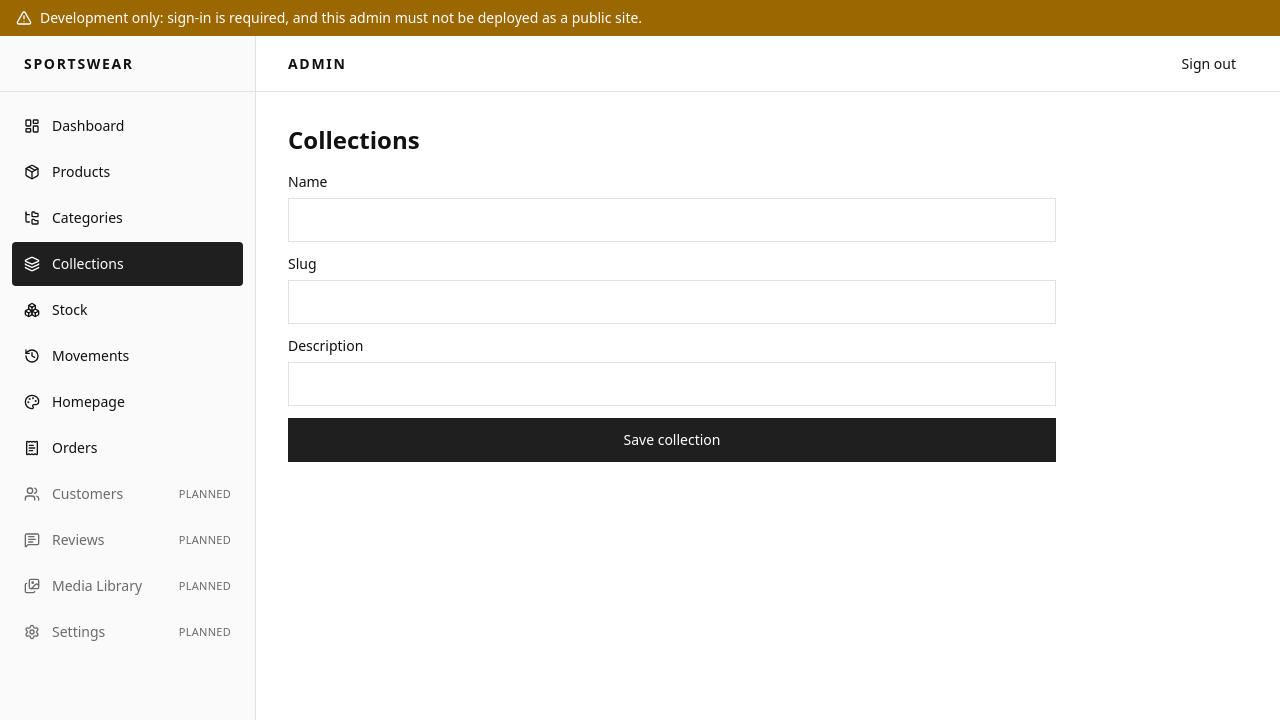
it: catalogue administration › shows a collection conflict from the API
Type "Drop" into the field labelled "Name" at x=672, y=220, box [288, 198, 1056, 242]
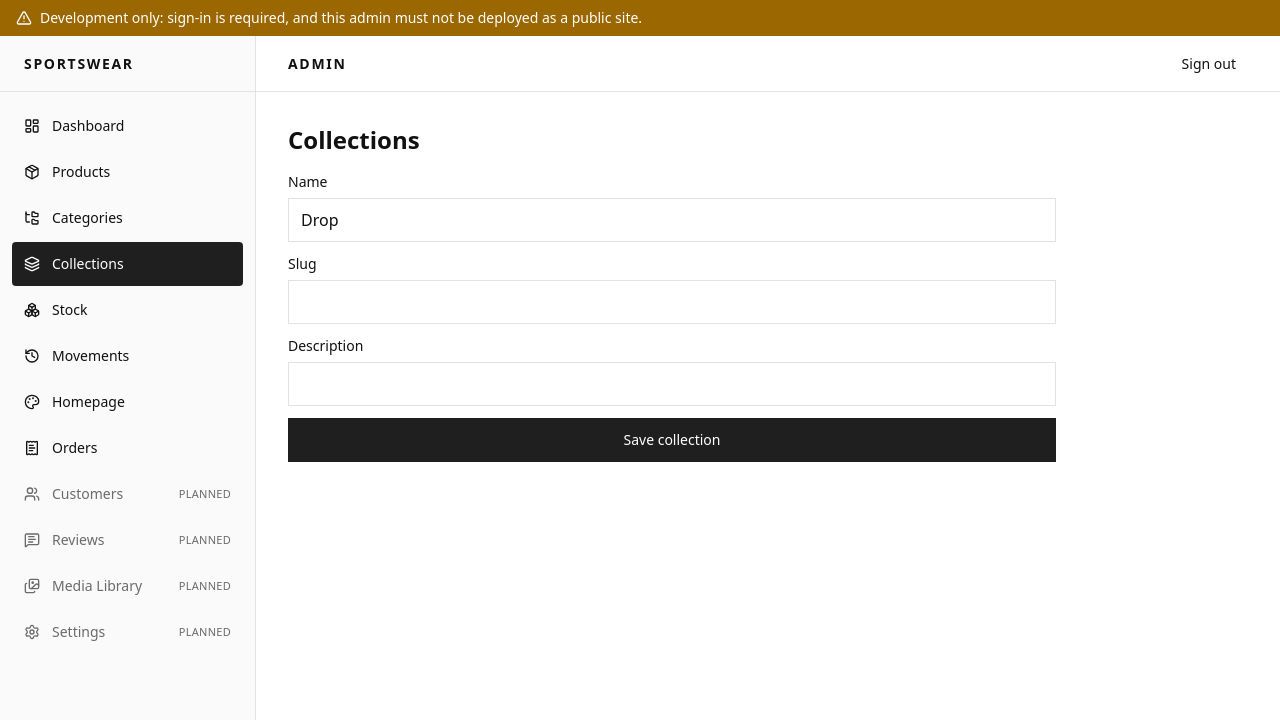
Click the button "Save collection" at x=672, y=440, box [288, 418, 1056, 462]
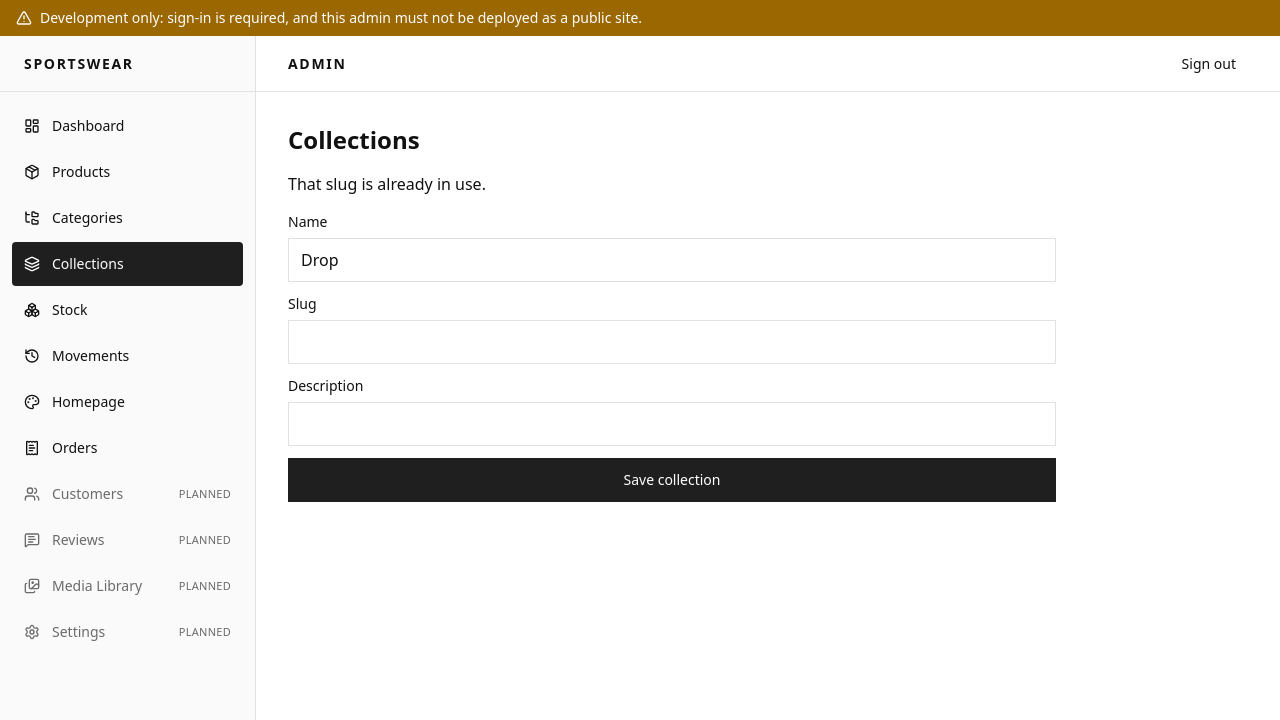
Now the message shows "already in use", box [288, 173, 486, 195]
